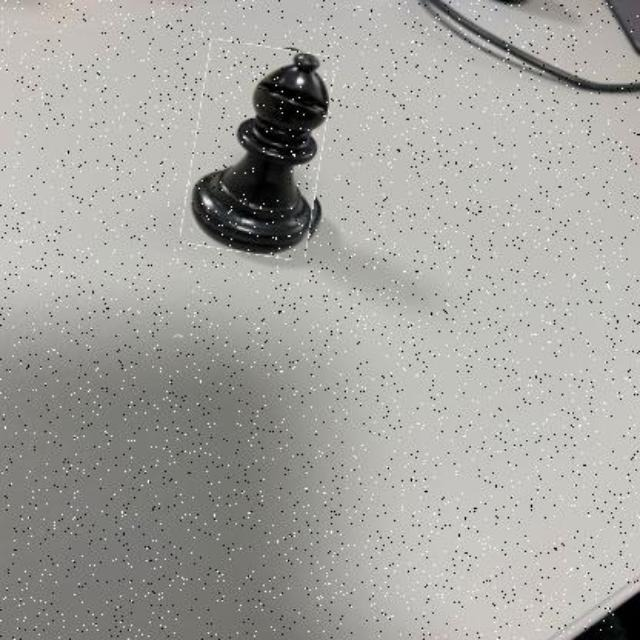black-bishop: (188, 44, 328, 257)
